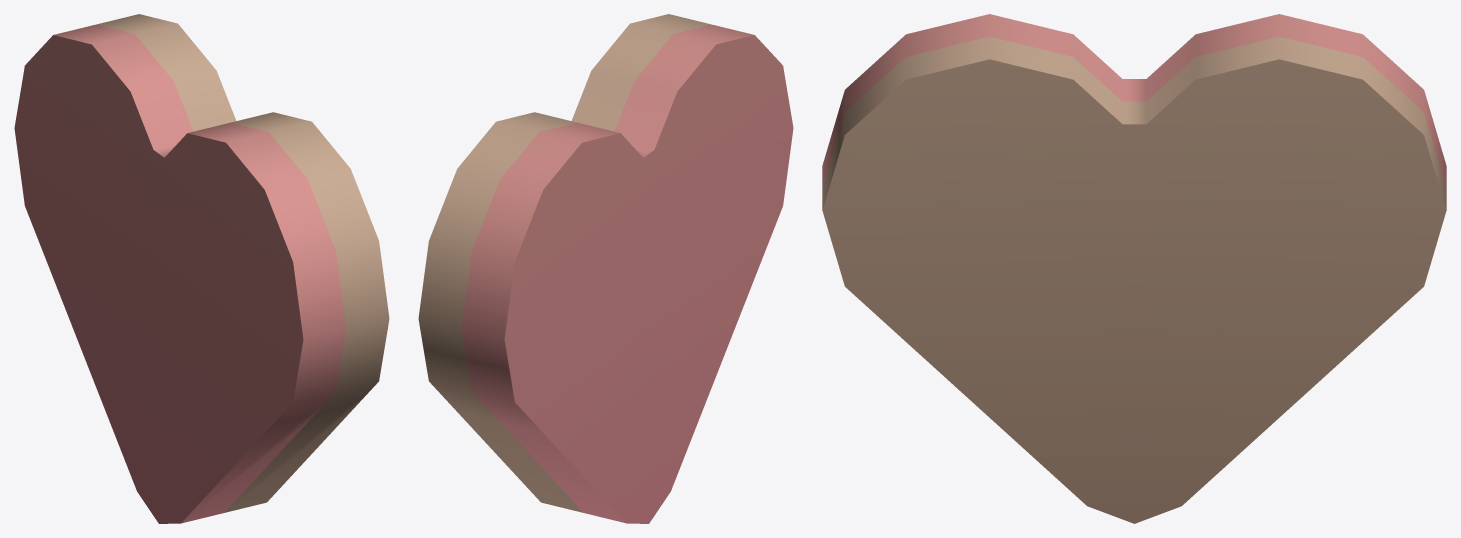
The model's file is heart-wall-decoration (%wall).glb.
3 renders of one model, left to right at view 1: azimuth 30°, elevation 25°; view 2: azimuth 150°, elevation 25°; view 3: azimuth 270°, elevation 25°, orthographic. The views are drawn at different scales.
Parts seen in each view (by area): view 1: heart-wall-decoration (%wall); view 2: heart-wall-decoration (%wall); view 3: heart-wall-decoration (%wall).
Boxes of the visible parts, x1,y1,x2,y2 form: heart-wall-decoration (%wall): [14, 14, 389, 523]; heart-wall-decoration (%wall): [418, 14, 793, 523]; heart-wall-decoration (%wall): [822, 14, 1446, 523].
Bounding box in the file's own units: 0.1 × 0.478 × 0.5818.
